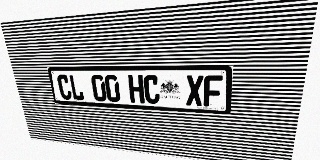0: (90, 75, 107, 102), (104, 75, 121, 102)
C: (143, 75, 160, 104), (56, 75, 72, 100)
F: (204, 75, 223, 107)
H: (128, 75, 145, 103)
L: (68, 75, 85, 100)
X: (186, 75, 203, 106)
